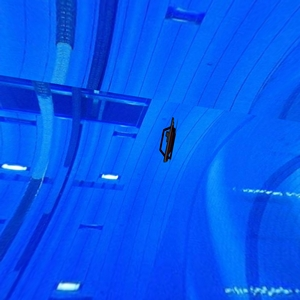submarine: (151, 113, 183, 164)
